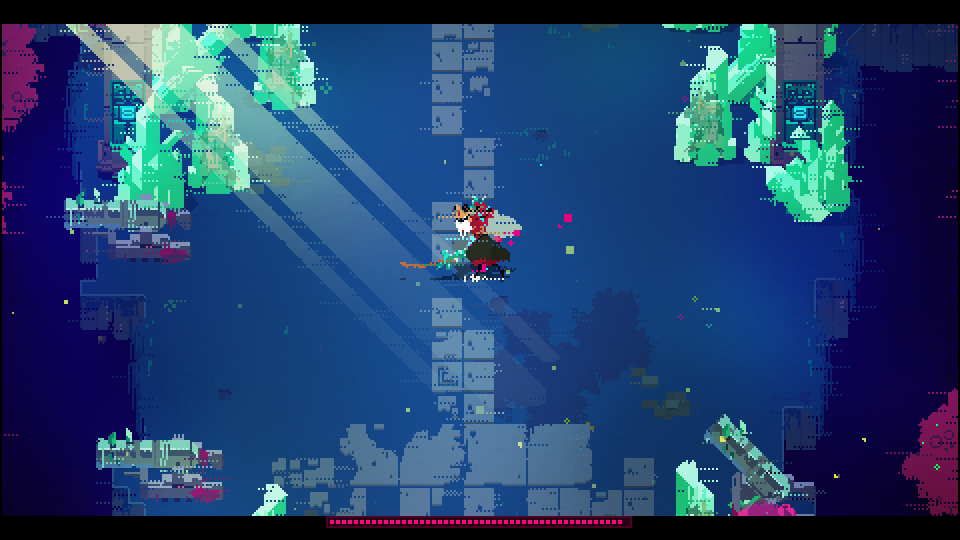hanged_man: (437, 195, 522, 281)
